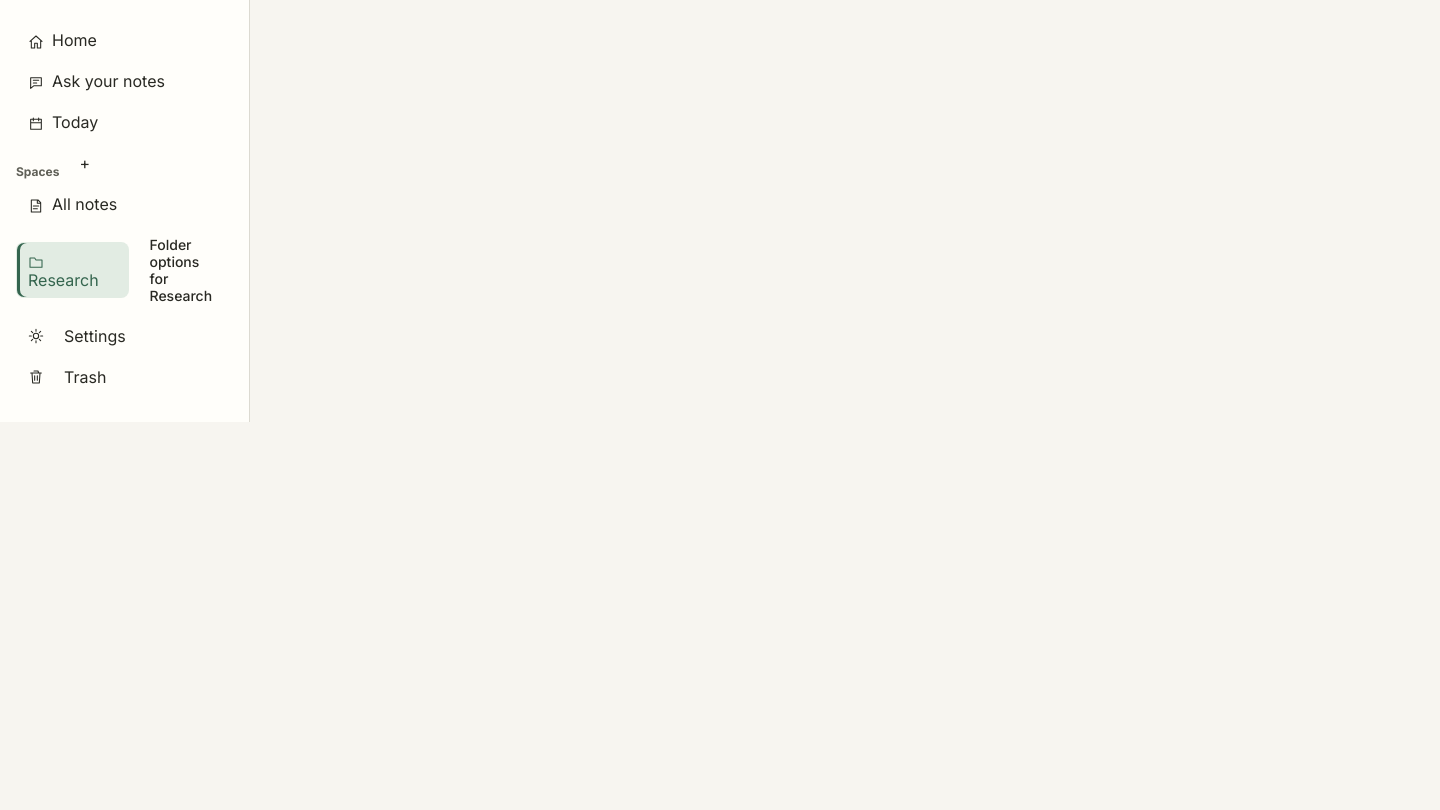
Scenario: sidebar exposes current space and folder menu with exact name
The width and height of the screenshot is (1440, 810).
Click the button "Folder options for Research" at {"x": 185, "y": 270}, box [136,227,233,313]
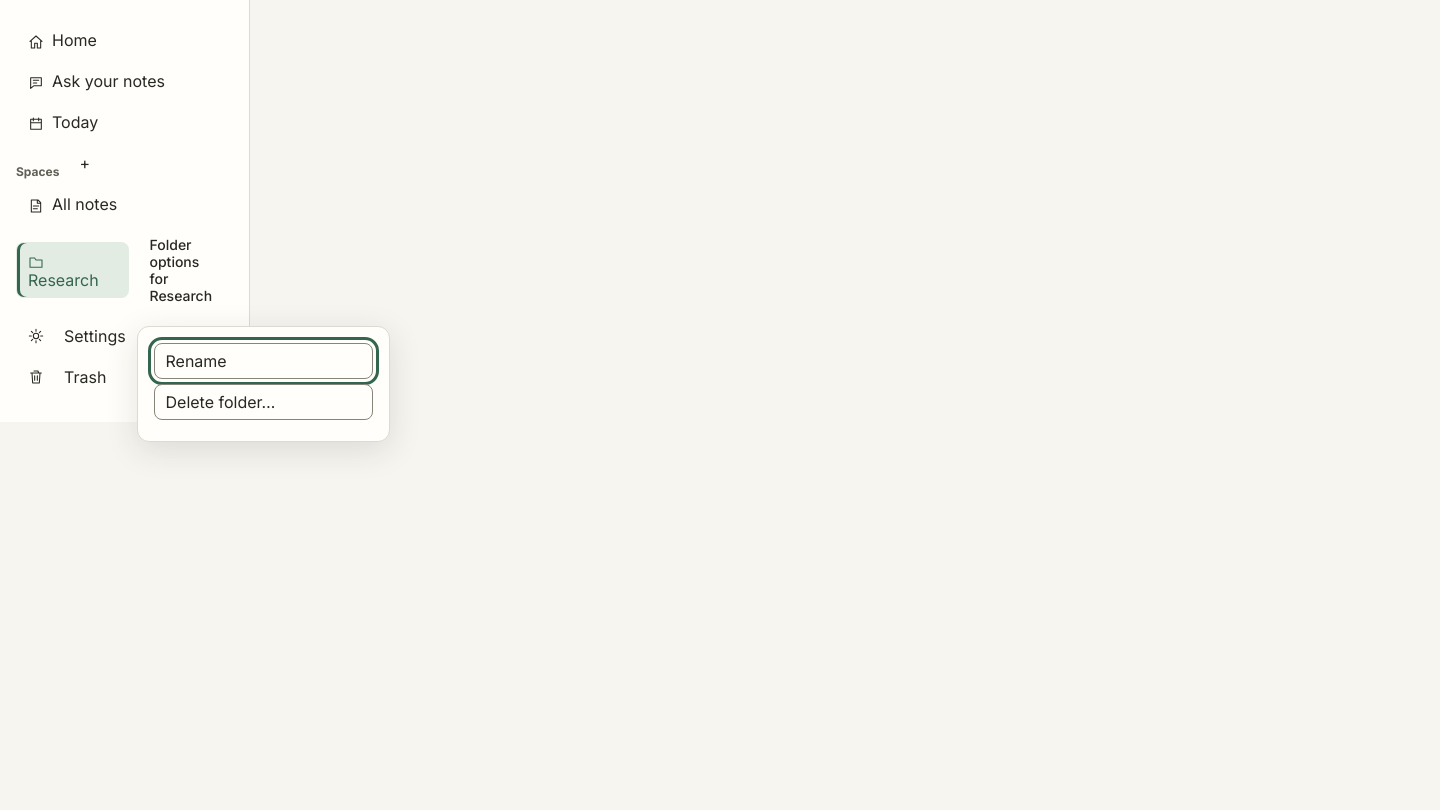
Expected: the button "Rename" is shown, [154,343,373,379]
